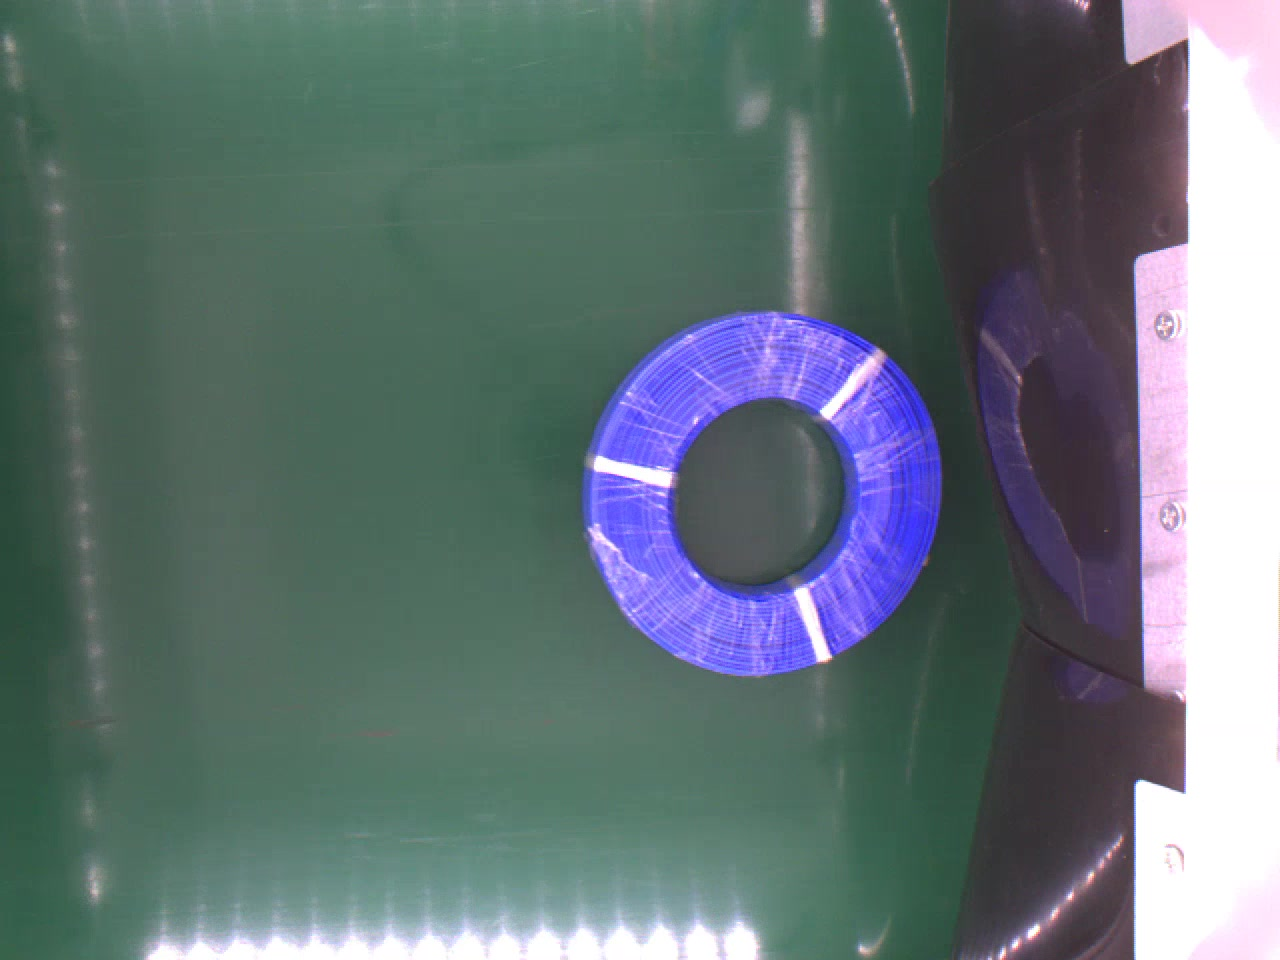blue: (582, 309, 947, 683)
